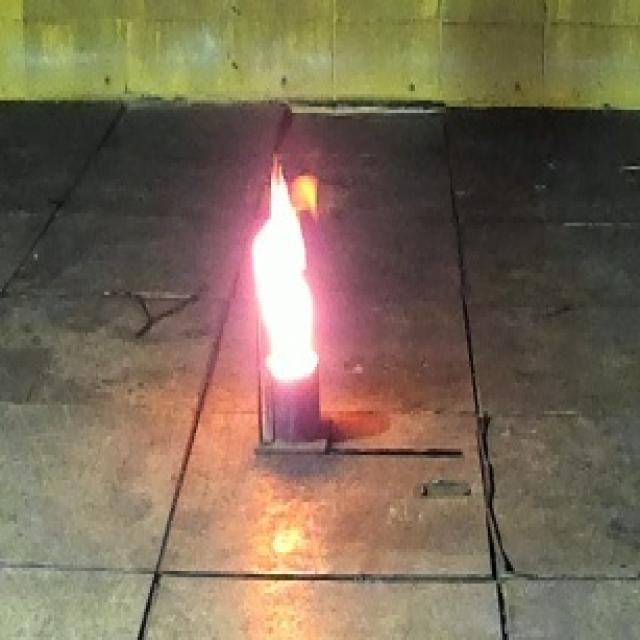Fire: (252, 152, 320, 382)
